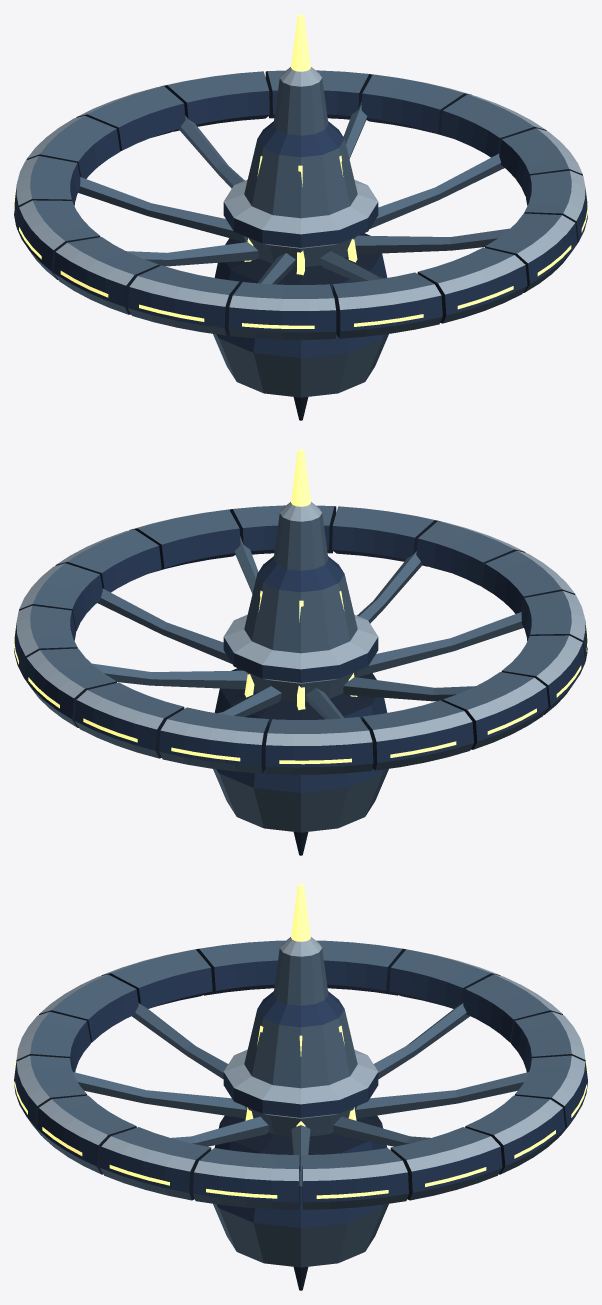
File: relay-crown.glb
The picture shows the model from 3 angles, top to bottom: view 1: azimuth 30°, elevation 25°; view 2: azimuth 150°, elevation 25°; view 3: azimuth 270°, elevation 25°; orthographic projection.
Parts seen in each view (by area): view 1: relay-crown; view 2: relay-crown; view 3: relay-crown.
Part boxes in pixels (left/top/right/bottom): relay-crown: left=14, top=14, right=587, bottom=420; relay-crown: left=14, top=449, right=587, bottom=855; relay-crown: left=14, top=884, right=587, bottom=1290.
Size of the model in its own units: 9.2 by 7.15 by 9.2.
